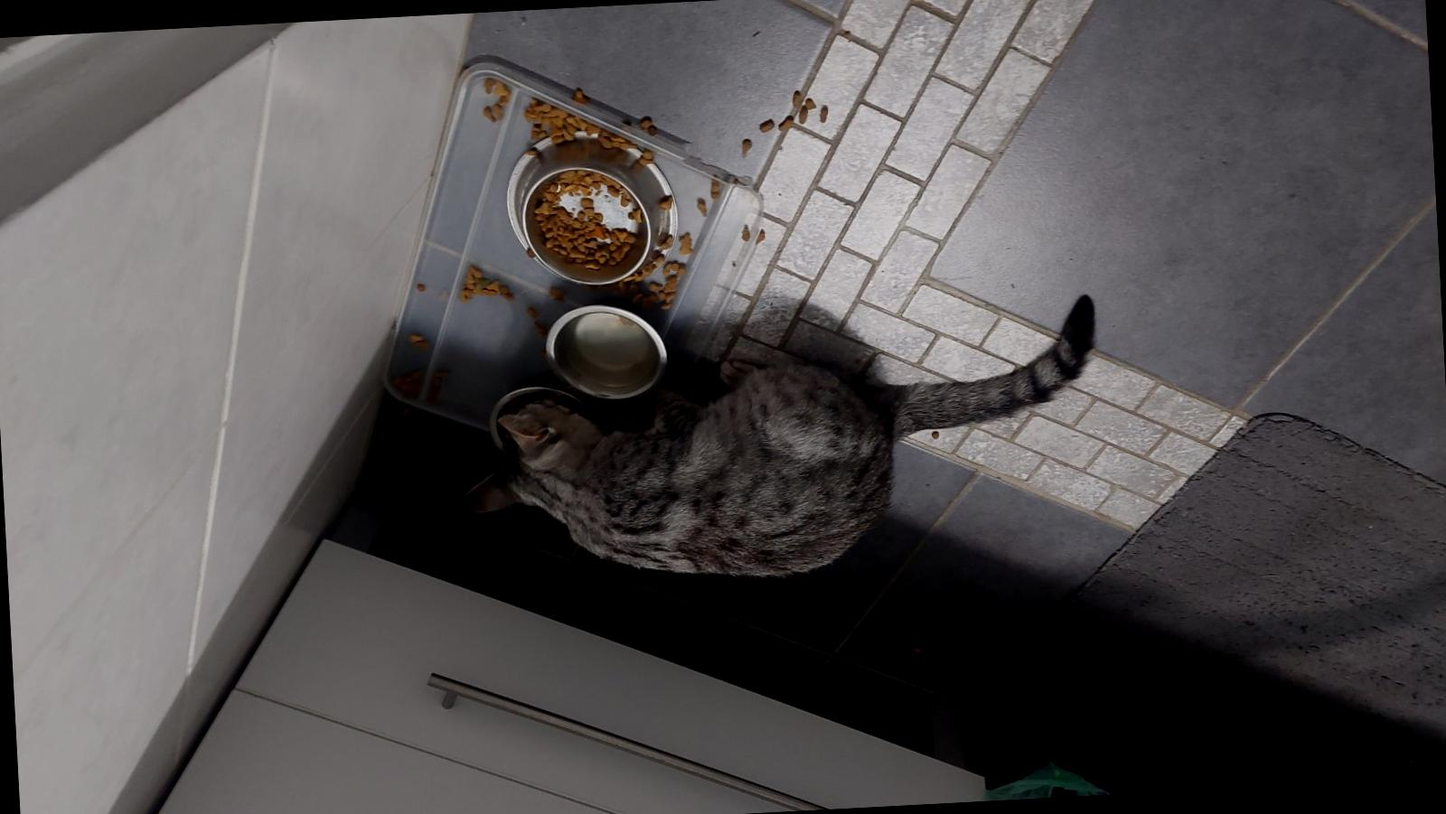macka: (441, 291, 1111, 595)
